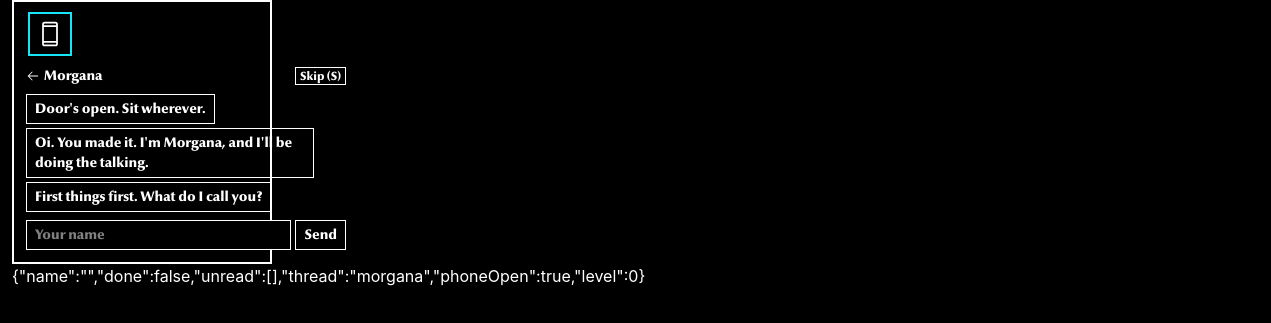
Test: PhoneWidget › onboarding › opens on Morgana's thread, asks for a name, and takes it
The width and height of the screenshot is (1271, 323).
Expected: the text "First things first. What do I call you?" is shown, [26,182,271,212]
Type "Ren" into the field labelled "Your name" at [159, 235], box [26,220,292,250]
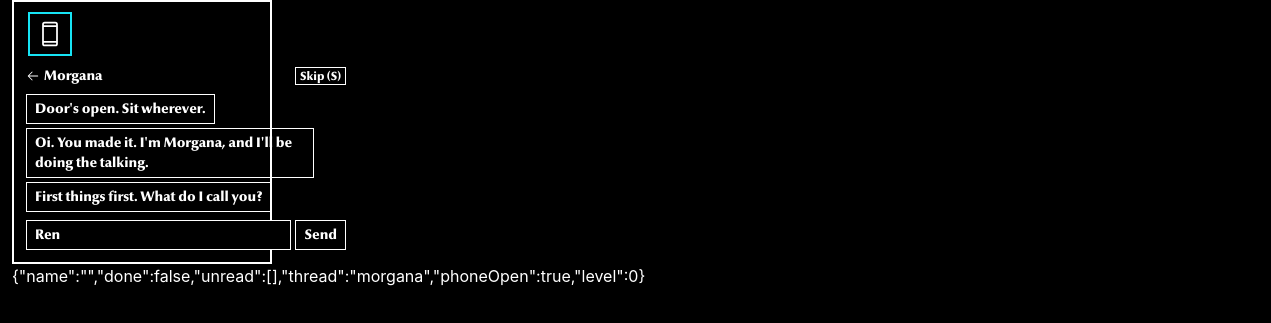
Submit the form named "Your name", box [26,220,346,250]
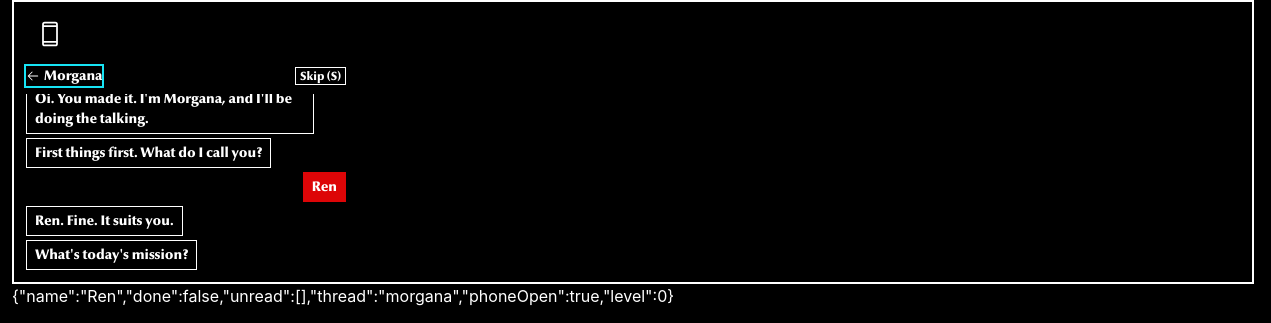
Expected: the field labelled "Your name" is not shown
Result: the text "Ren. Fine. It suits you." is shown at [26,206,183,236]
